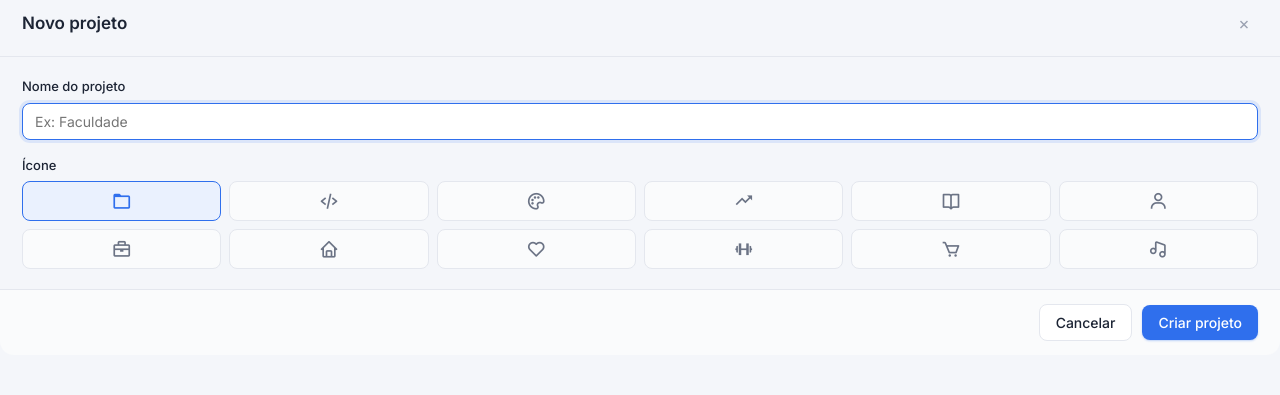
Test case: FormProjeto › mostra o erro e não salva quando o nome já existe
Type "design" into the field labelled "Nome do projeto".
click(640, 121); type("design")  # box [22,102,1258,140]
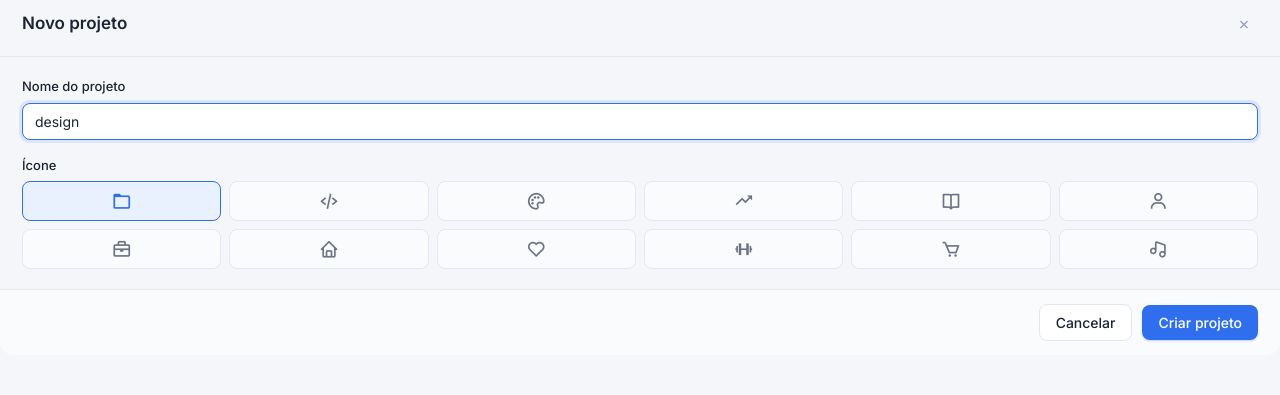
Click the button "Criar projeto".
click(1200, 322)  # box [1142,305,1258,340]
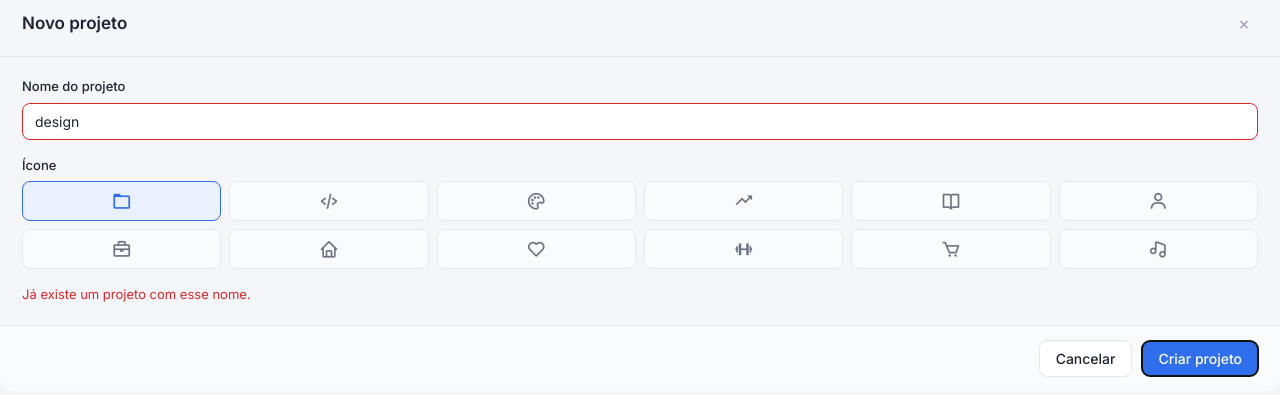
Now the text "Já existe um projeto com esse nome." is shown, box [22,286,251,302]
